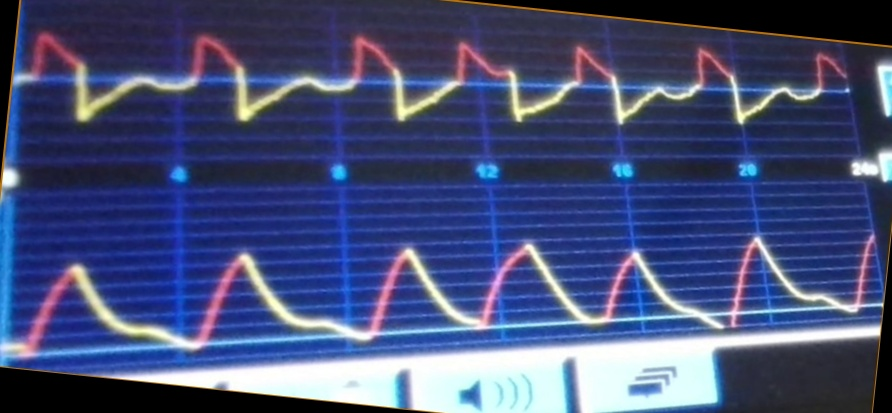Ineffective_effort Flow: (25, 26, 846, 135)
Ineffective_effort Volume: (13, 230, 877, 353)
